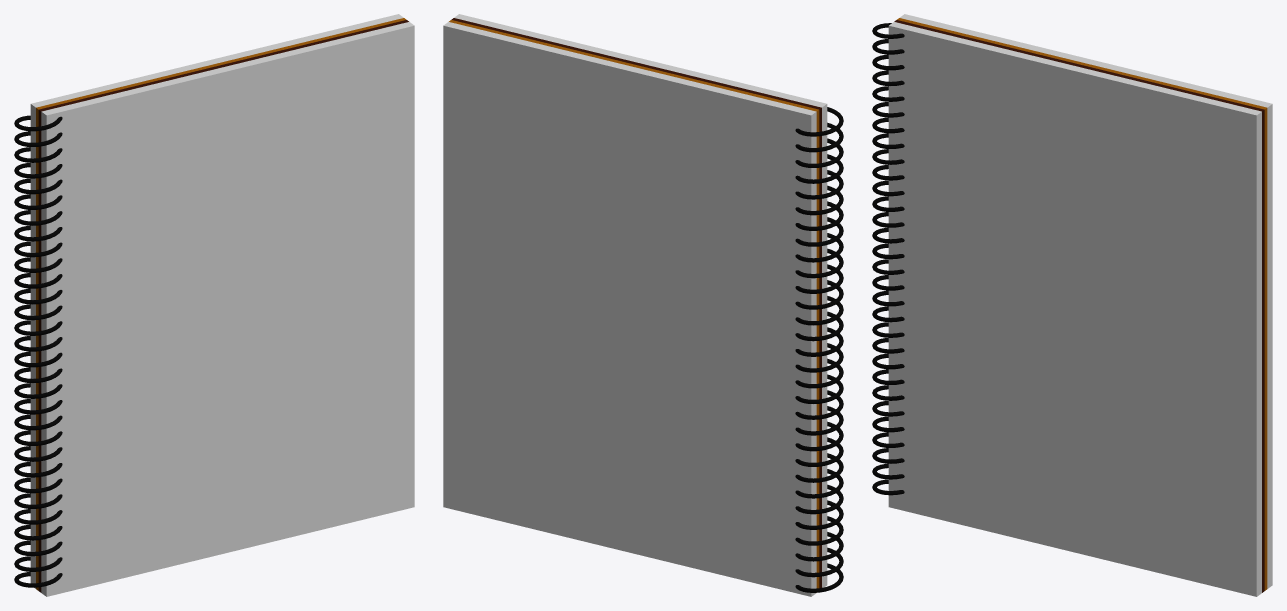
Rendered from Notebook.fbx.
The picture shows the model from 3 angles, left to right: view 1: azimuth 30°, elevation 25°; view 2: azimuth 150°, elevation 25°; view 3: azimuth 330°, elevation 25°; orthographic projection.
Parts seen in each view (by area): view 1: Cube, Spiral.001; view 2: Cube, Spiral.001; view 3: Cube, Spiral.001.
Boxes of the visible parts, bbox=[...] form: Cube: bbox=[30, 14, 414, 596]; Spiral.001: bbox=[14, 115, 62, 587]; Cube: bbox=[443, 14, 827, 596]; Spiral.001: bbox=[795, 107, 843, 592]; Cube: bbox=[888, 14, 1272, 596]; Spiral.001: bbox=[872, 23, 904, 495].
Bounding box in the file's own units: 21.15 × 25 × 2.3.
